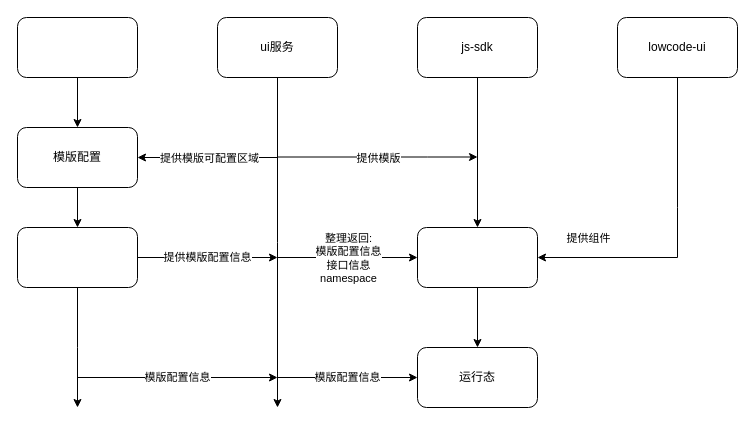
Image size: 755x433. Some labels were removed from this diagram. The centre of each missing label's shape, as x and y in pixels:
智能体厂: point 77,47
生成代码: point 477,257
配置json: point 77,257
